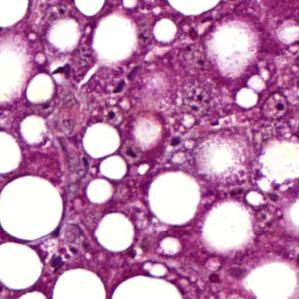steatosis: (0, 177, 66, 234), (143, 170, 201, 224), (94, 212, 138, 251), (82, 127, 121, 156)
